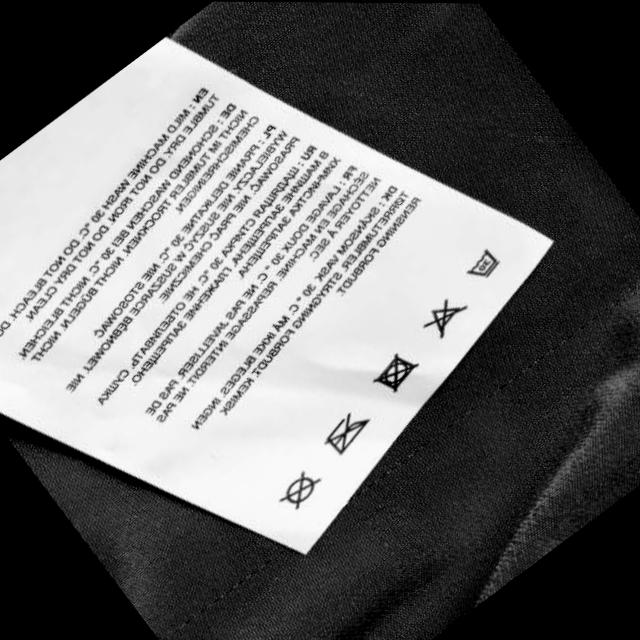30C: (466, 248, 504, 281)
DN_bleach: (426, 296, 468, 337)
DN_dry_clean: (279, 465, 324, 511)
DN_iron: (325, 410, 375, 456)
DN_tumble_dry: (375, 351, 419, 394)
